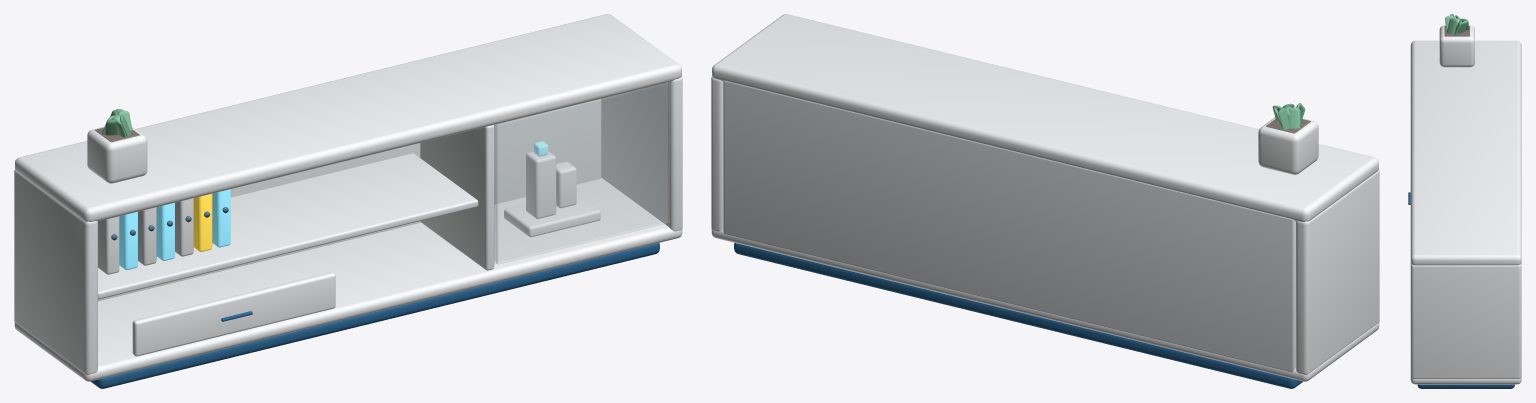
Rendered from bookshelf-table.glb.
3 renders of one model, left to right at view 1: azimuth 30°, elevation 25°; view 2: azimuth 150°, elevation 25°; view 3: azimuth 270°, elevation 25°, orthographic. The views are drawn at different scales.
Parts seen in each view (by area): view 1: Top, BottomDeck, GlassFront, ShelfBoard, LeftSide, RightSide, Back, DrawerFront, Divider, Plinth, PlantPot, DisplayPodium (+9 smaller); view 2: Back, Top, LeftSide, Plinth, BottomDeck, PlantPot, RightSide; view 3: Top, RightSide, PlantPot, BottomDeck, Plinth, PlantLeaf_02, PlantSoil.
Boxes of the visible parts, box(x1,y1,x2,y2) form: Top: box(15, 14, 681, 221); BottomDeck: box(14, 178, 682, 381); GlassFront: box(496, 83, 669, 264); ShelfBoard: box(98, 153, 478, 299); LeftSide: box(14, 169, 97, 374); RightSide: box(601, 76, 682, 231); Back: box(98, 99, 601, 301); DrawerFront: box(132, 272, 335, 356); Divider: box(420, 125, 494, 270); Plinth: box(91, 243, 659, 388); PlantPot: box(87, 126, 147, 183); DisplayPodium: box(504, 194, 600, 237); Back: box(723, 80, 1295, 372); Top: box(712, 14, 1378, 221); LeftSide: box(1296, 169, 1379, 374); Plinth: box(734, 243, 1302, 388); BottomDeck: box(711, 229, 1379, 381); PlantPot: box(1258, 117, 1318, 174); RightSide: box(711, 76, 723, 231); Top: box(1410, 40, 1521, 265); RightSide: box(1410, 263, 1521, 378); PlantPot: box(1439, 25, 1474, 67); BottomDeck: box(1410, 262, 1521, 384); Plinth: box(1417, 384, 1514, 388); PlantLeaf_02: box(1447, 18, 1457, 34); PlantSoil: box(1444, 26, 1469, 36).
Bounding box in the file's own units: 2.32 × 0.9149 × 0.511.
